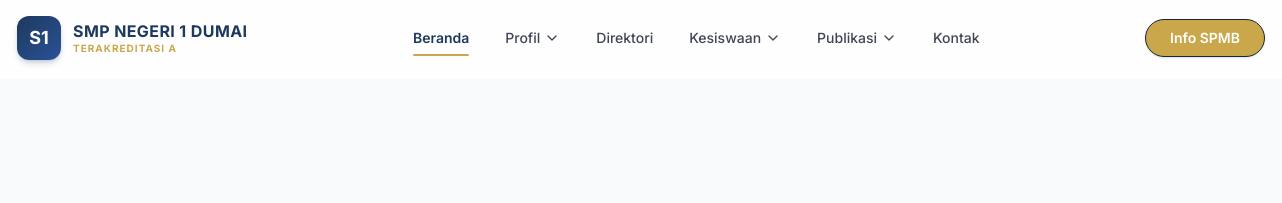
Navbar › Dropdown navigasi saat hover › menyembunyikan dropdown Profil saat mouseLeave
Hover over the element "Profil" at (533, 38), box [493,20,572,56]
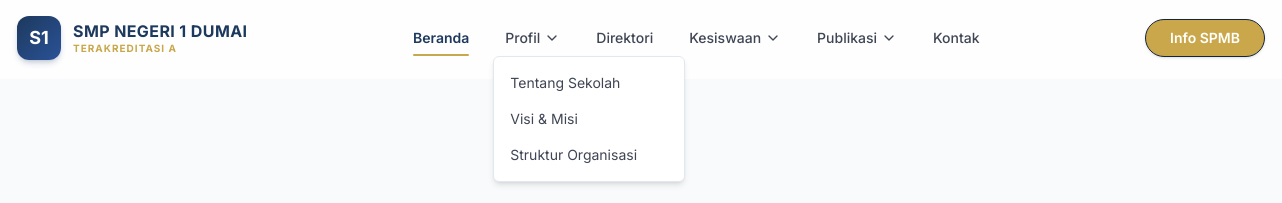
Expected: the link "Tentang Sekolah" is shown, [510,74,620,91]
Move the pointer off the element "Profil Tentang Sekolah Visi & Misi Struktur Organisasi", box [493,20,572,56]
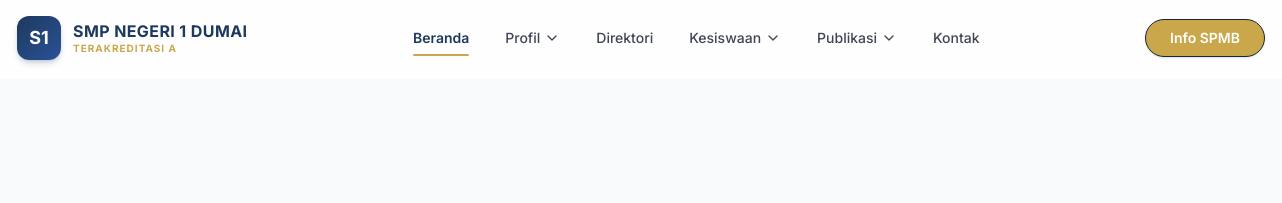
Expected: the link "Tentang Sekolah" is gone
